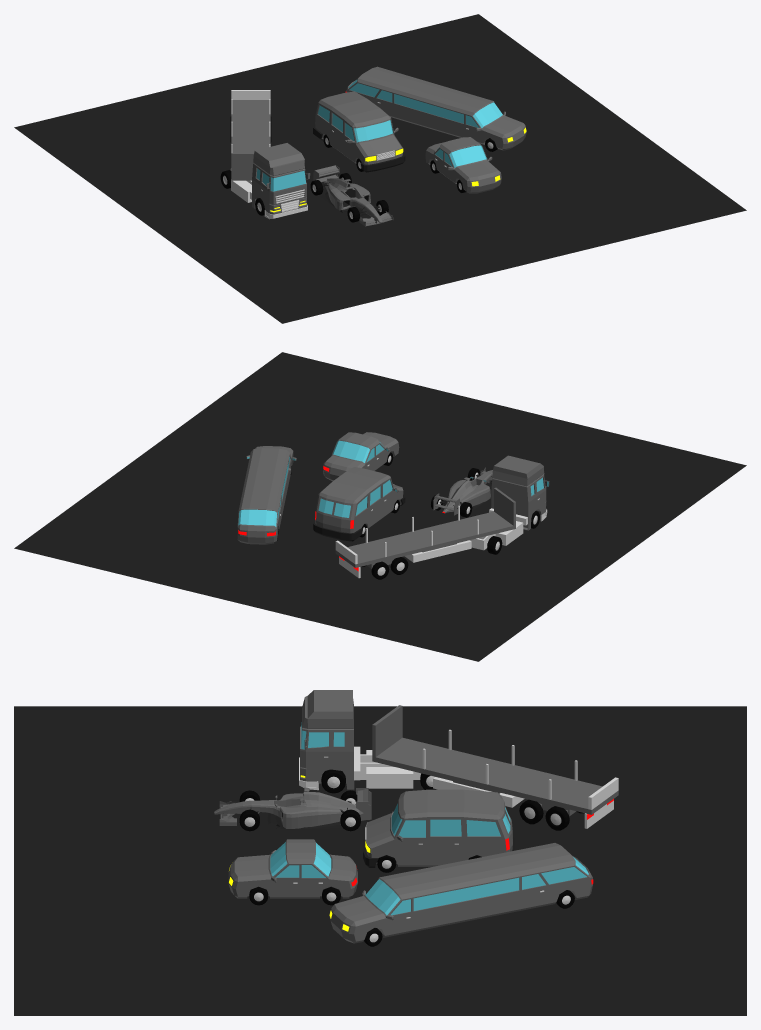
File: simple_low_poly_cars_pack_free.glb
3 renders of one model, top to bottom at view 1: azimuth 30°, elevation 25°; view 2: azimuth 150°, elevation 25°; view 3: azimuth 270°, elevation 25°, orthographic. The views are drawn at different scales.
Visible parts, largest first — view 1: Plane, limousine, minivan, truck1, trailer2, sedan, formula1; view 2: Plane, trailer2, minivan, limousine, truck1, sedan, formula1; view 3: Plane, limousine, minivan, trailer2, truck1, sedan, formula1.
Part boxes in pixels (box(x1,y1,x2,y2)): Plane: box(14, 14, 746, 323); limousine: box(345, 66, 526, 150); minivan: box(313, 91, 405, 172); truck1: box(230, 143, 310, 219); trailer2: box(231, 90, 270, 180); sedan: box(425, 137, 501, 193); formula1: box(313, 165, 393, 226); Plane: box(14, 352, 746, 661); trailer2: box(335, 487, 515, 578); minivan: box(313, 467, 405, 541); limousine: box(237, 446, 296, 544); truck1: box(470, 455, 549, 550); sedan: box(323, 432, 399, 481); formula1: box(433, 467, 492, 515); Plane: box(14, 706, 746, 1015); limousine: box(329, 843, 593, 943); minivan: box(363, 789, 514, 867); trailer2: box(372, 705, 618, 828); truck1: box(299, 690, 420, 790); sedan: box(228, 839, 357, 898); formula1: box(214, 787, 371, 828).
Size of the model in its own units: 282 by 34.15 by 282.
